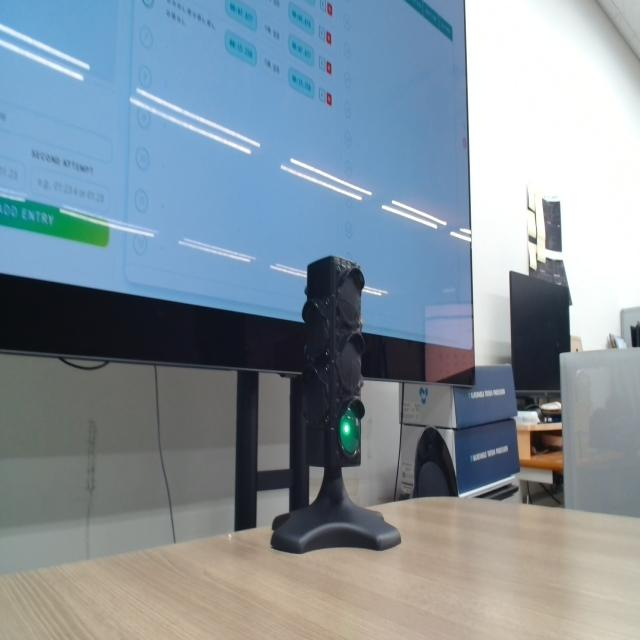green_light: (339, 409, 360, 455)
